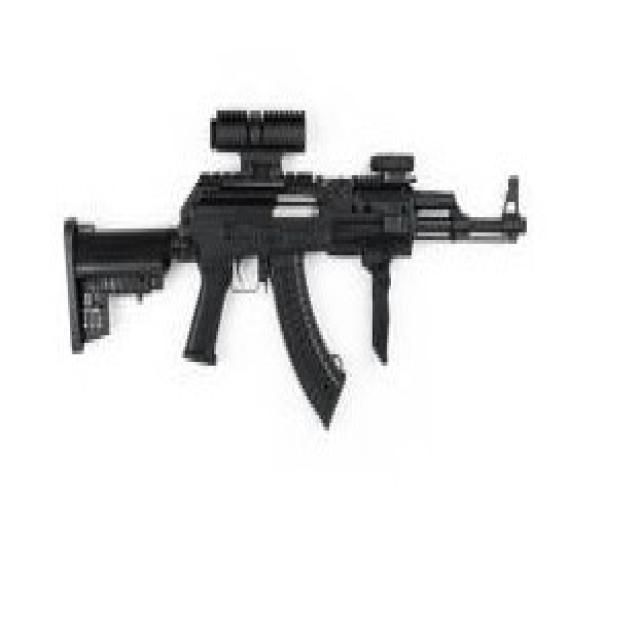rifle: (55, 104, 537, 450)
